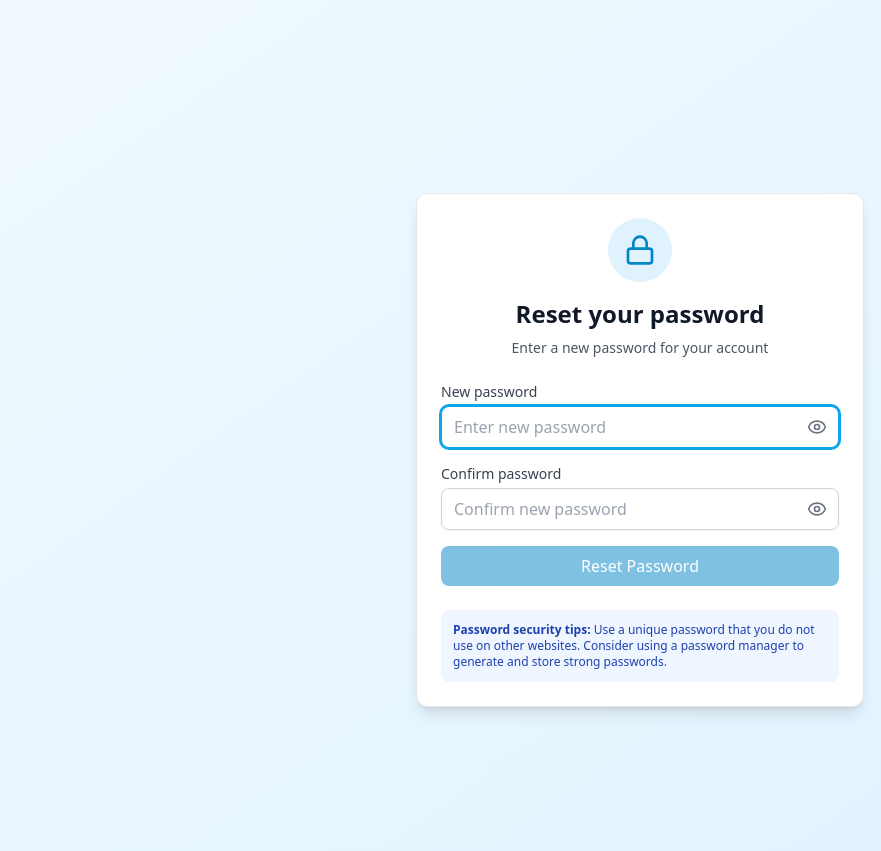
ResetPasswordPage › should show password requirements checklist
expect the heading "Reset your password" is shown: met, box [516,297,764,330]
Type "test" into the password field labelled "New password" at (640, 427), box [441,406,839,448]
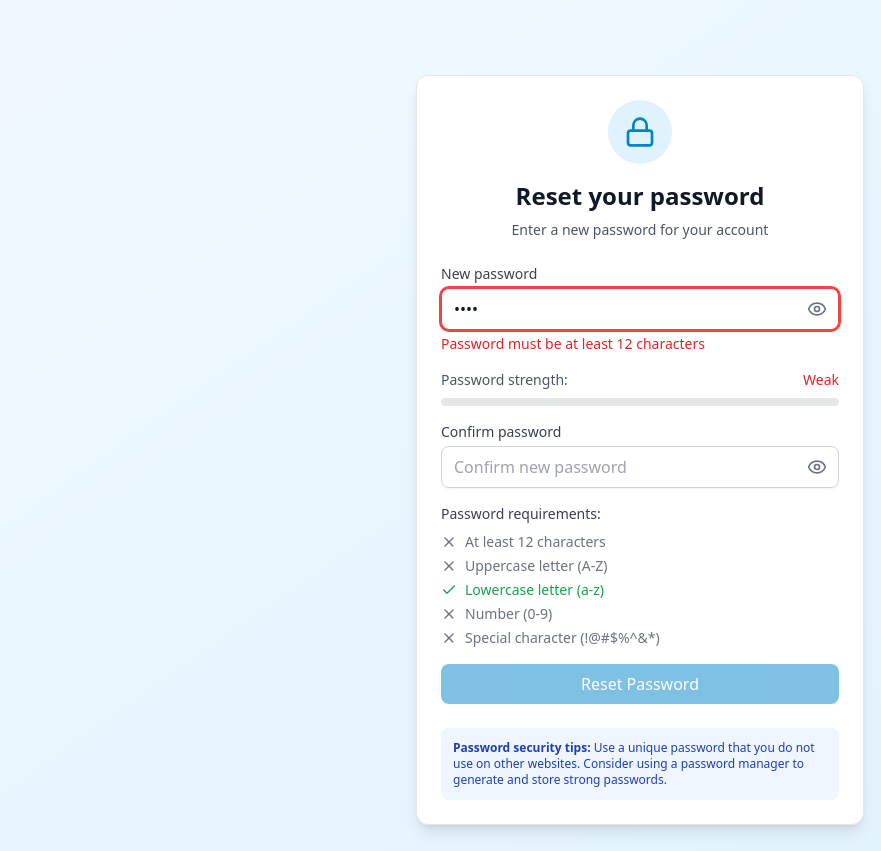
expect the text "Password requirements:" is shown: met, box [441,504,601,523]
